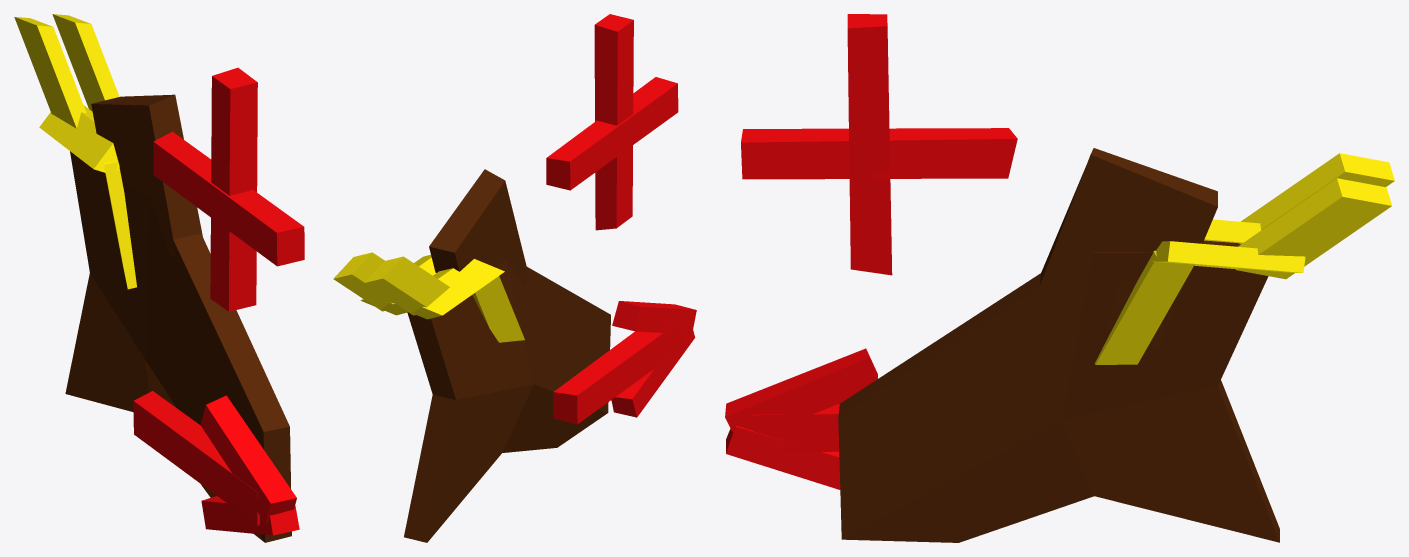
Rendered from speedpowerUPicon.fbx.
3 renders of one model, left to right at view 1: azimuth 30°, elevation 25°; view 2: azimuth 150°, elevation 25°; view 3: azimuth 270°, elevation 25°, orthographic. The views are drawn at different scales.
Parts seen in each view (by area): view 1: Cube, Cube.012, Cube.011, Cube.001, Cube.008, Cube.009, Cube.007, Cube.004, Cube.006, Cube.010, Cube.005; view 2: Cube, Cube.012, Cube.001, Cube.011, Cube.008, Cube.007, Cube.006, Cube.009, Cube.005, Cube.010, Cube.004, Cube.003; view 3: Cube, Cube.001, Cube.011, Cube.012, Cube.004, Cube.009, Cube.002, Cube.010, Cube.007, Cube.003, Cube.008, Cube.006.
Part boxes in pixels (x1,y1,x2,y2): Cube: [65, 151, 291, 542]; Cube.012: [210, 67, 257, 311]; Cube.011: [153, 131, 304, 266]; Cube.001: [91, 94, 202, 257]; Cube.008: [133, 391, 259, 525]; Cube.009: [200, 395, 296, 523]; Cube.007: [14, 17, 86, 128]; Cube.004: [52, 14, 119, 111]; Cube.006: [39, 105, 119, 172]; Cube.010: [201, 496, 299, 535]; Cube.005: [103, 161, 136, 289]; Cube: [404, 259, 610, 542]; Cube.012: [594, 14, 633, 230]; Cube.001: [429, 169, 529, 284]; Cube.011: [546, 77, 678, 190]; Cube.008: [553, 317, 685, 424]; Cube.007: [364, 256, 449, 315]; Cube.006: [392, 259, 504, 319]; Cube.009: [612, 301, 696, 334]; Cube.005: [472, 276, 524, 342]; Cube.010: [611, 330, 695, 417]; Cube.004: [333, 252, 393, 311]; Cube.003: [360, 254, 436, 315]; Cube: [838, 240, 1279, 542]; Cube.001: [1032, 148, 1217, 348]; Cube.011: [741, 128, 1017, 179]; Cube.012: [847, 14, 892, 275]; Cube.004: [1236, 178, 1391, 279]; Cube.009: [725, 348, 877, 432]; Cube.002: [1094, 250, 1194, 364]; Cube.010: [726, 425, 840, 489]; Cube.007: [1239, 153, 1394, 244]; Cube.003: [1150, 241, 1305, 272]; Cube.008: [753, 403, 839, 451]; Cube.006: [1204, 219, 1261, 243].
Size of the model in its own units: 90.68 by 342 by 417.
